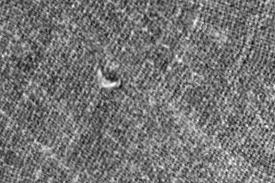snag: (94, 65, 126, 97)
